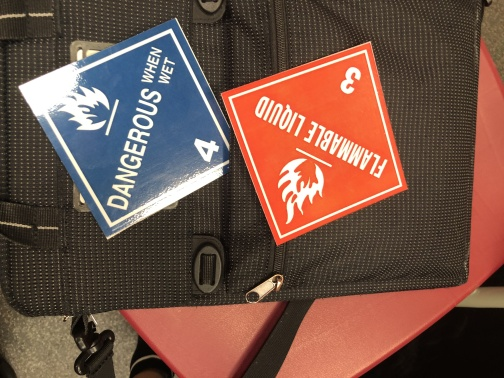DangerousWhenWet: (16, 18, 230, 237)
FlammableLiquid: (221, 41, 410, 243)
